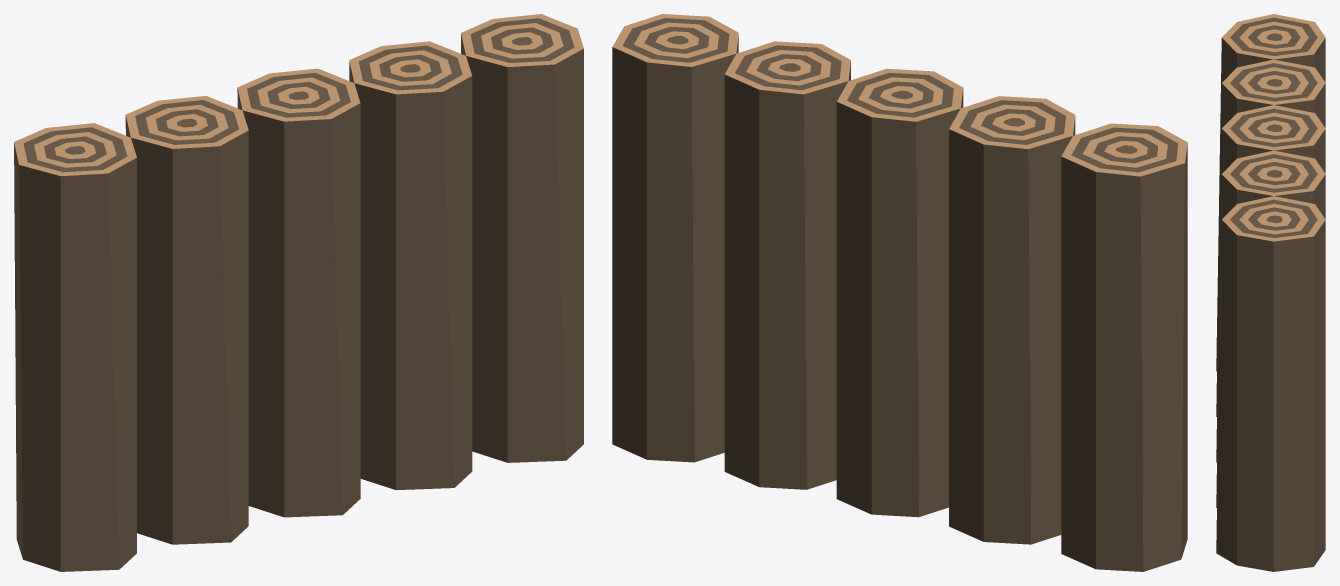
The model's file is Pared de madera.fbx.
3 views of the same model, side by side, from view 1: azimuth 30°, elevation 25°; view 2: azimuth 150°, elevation 25°; view 3: azimuth 270°, elevation 25° (orthographic). The views are drawn at different scales.
Parts seen in each view (by area): view 1: Cylinder; view 2: Cylinder; view 3: Cylinder.
Part boxes in pixels (box(x1,y1,x2,y2)): Cylinder: box(14, 14, 583, 571); Cylinder: box(612, 14, 1187, 571); Cylinder: box(1216, 14, 1325, 571).
Bounding box in the file's own units: 1036 × 701 × 211.
